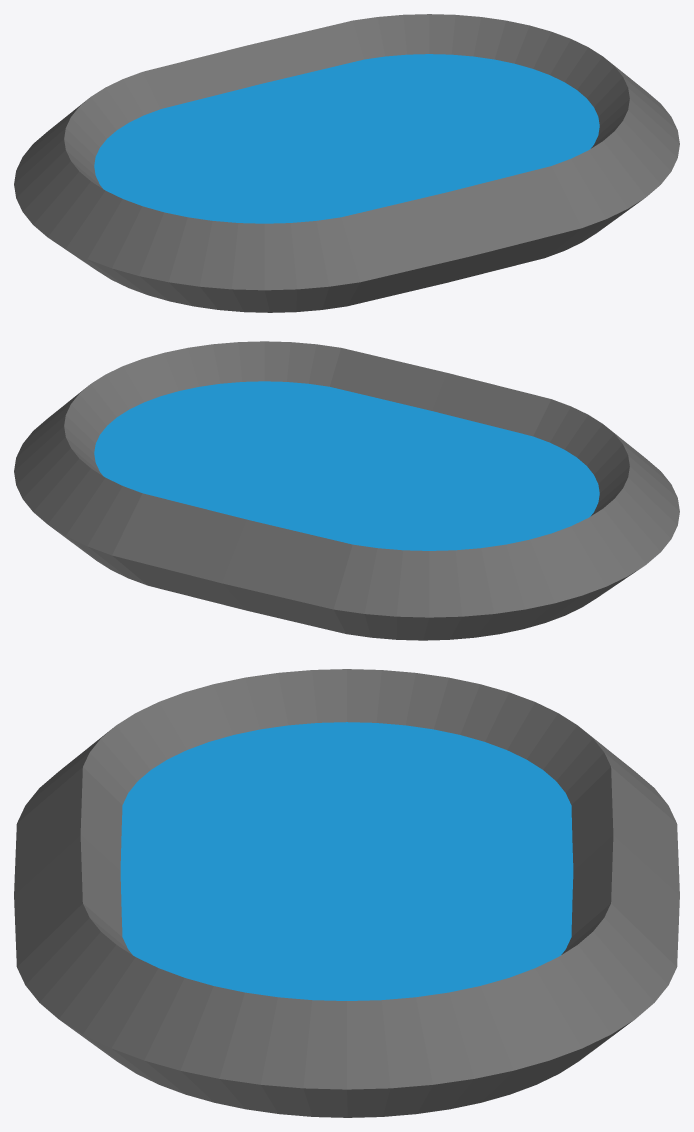
The model's file is Powa.fbx.
3 renders of one model, top to bottom at view 1: azimuth 30°, elevation 25°; view 2: azimuth 150°, elevation 25°; view 3: azimuth 270°, elevation 25°, orthographic. The views are drawn at different scales.
Parts seen in each view (by area): view 1: Torus; view 2: Torus; view 3: Torus.
Boxes of the visible parts, bbox=[...] form: Torus: bbox=[14, 14, 679, 312]; Torus: bbox=[14, 341, 679, 640]; Torus: bbox=[14, 669, 679, 1117].
Bounding box in the file's own units: 345 × 50 × 250.
